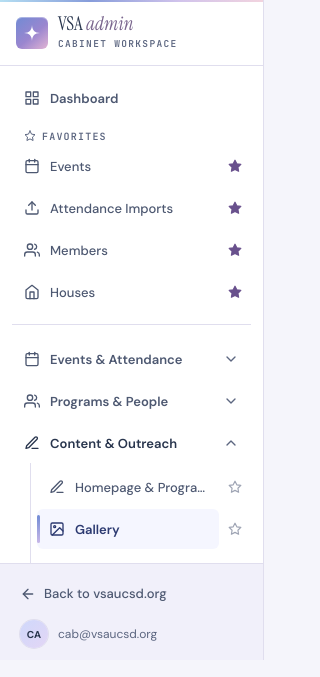
Test: AdminNav groups › collapses a group and hides its links from the accessibility tree
The width and height of the screenshot is (320, 677).
Click the button "Content & Outreach" at point(132, 443), box [12, 423, 251, 463]
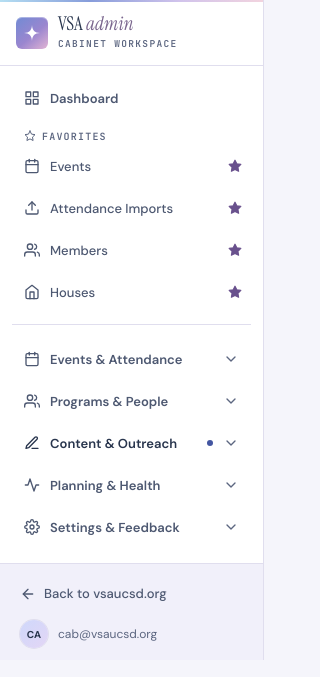
Now the link "Gallery" is gone
